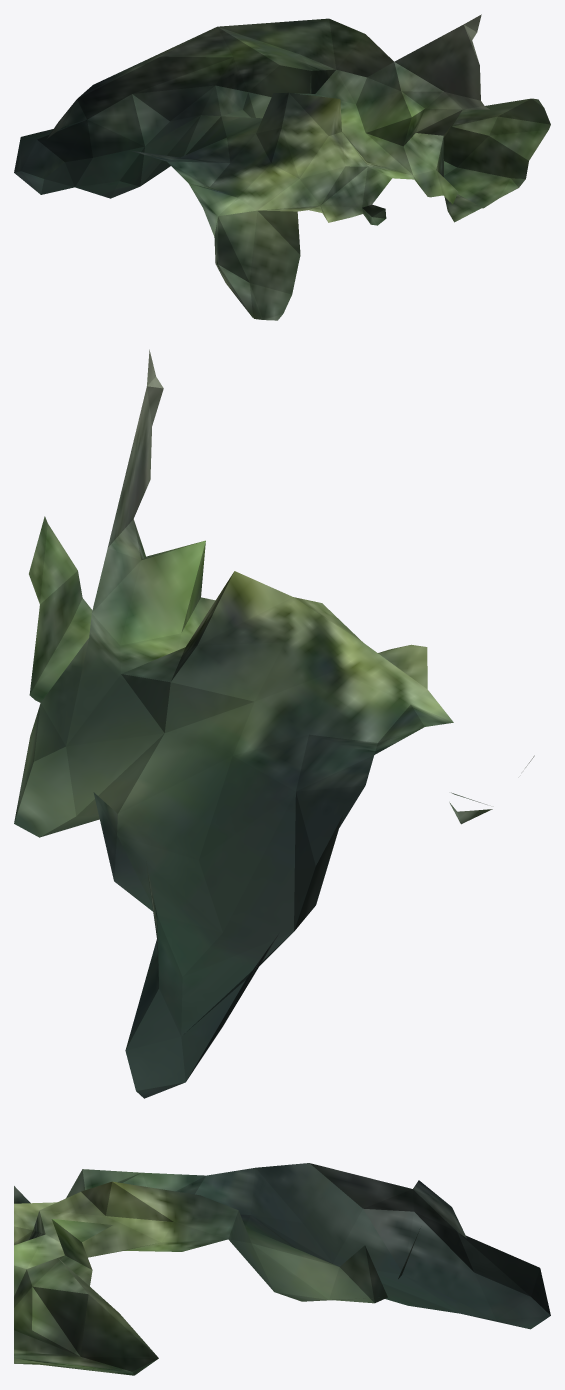
3 views of the same model, one above another, from view 1: azimuth 30°, elevation 25°; view 2: azimuth 150°, elevation 25°; view 3: azimuth 270°, elevation 25° (orthographic). The views are drawn at different scales.
Bounding box in the file's own units: 33.62 × 26.49 × 40.29.
1 material, 1 textured.
